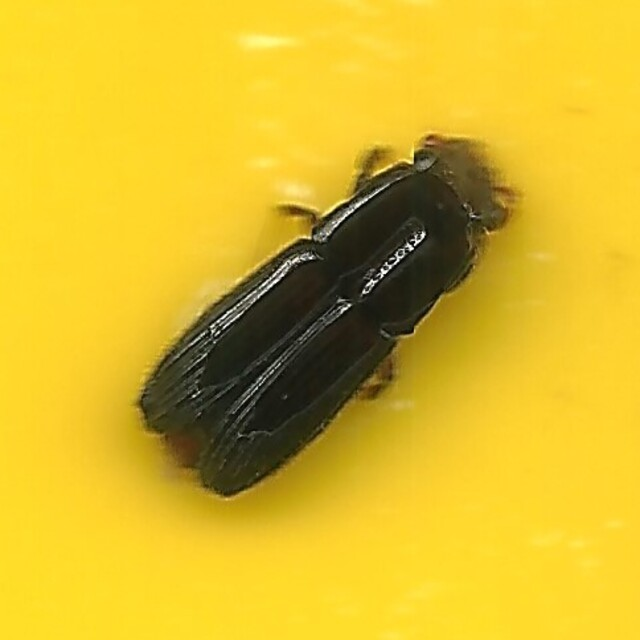Coleoptera: (132, 133, 508, 507)
